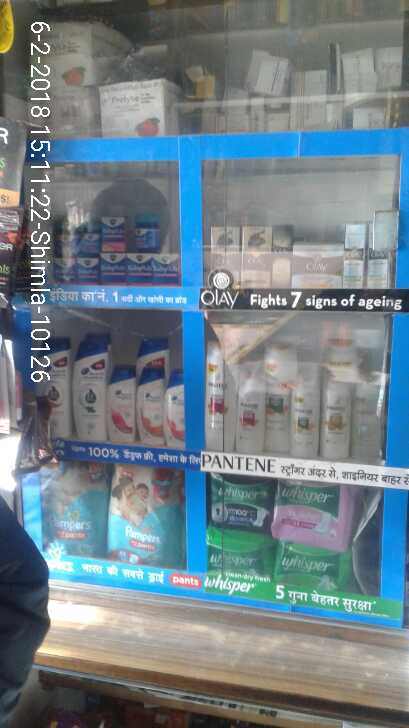beauty: (65, 334, 105, 443), (232, 363, 272, 458), (199, 344, 233, 454), (36, 337, 73, 436), (135, 363, 173, 454), (288, 244, 344, 290), (106, 363, 132, 450)
pharmacy: (48, 212, 176, 286), (110, 459, 179, 567), (35, 462, 105, 557), (272, 473, 348, 543), (204, 474, 273, 528), (271, 548, 355, 588), (208, 530, 268, 574)
